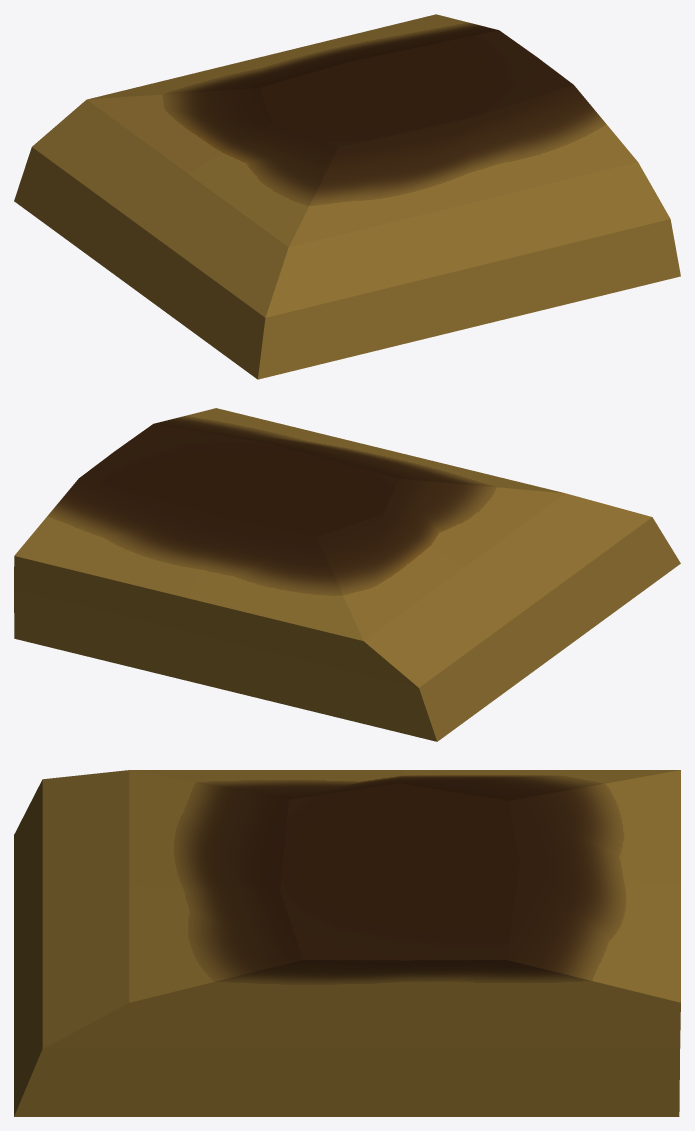
The model's file is buried_water_bed1.fbx.
3 views of the same model, one above another, from view 1: azimuth 30°, elevation 25°; view 2: azimuth 150°, elevation 25°; view 3: azimuth 270°, elevation 25° (orthographic). The views are drawn at different scales.
Parts seen in each view (by area): view 1: Куб.028; view 2: Куб.028; view 3: Куб.028.
Boxes of the visible parts, x1,y1,x2,y2 form: Куб.028: (14, 14, 680, 379); Куб.028: (14, 408, 680, 741); Куб.028: (14, 770, 680, 1116).
Size of the model in its own units: 85 by 21.96 by 85.
